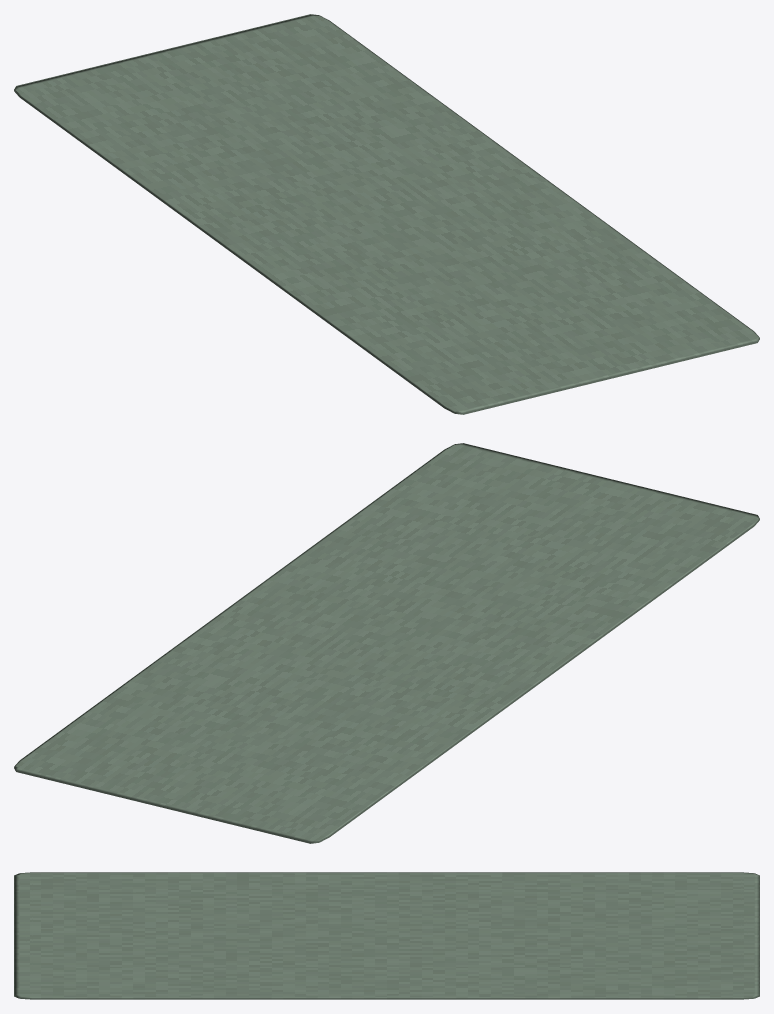
File: walk-band.glb
The picture shows the model from 3 angles, top to bottom: view 1: azimuth 30°, elevation 25°; view 2: azimuth 150°, elevation 25°; view 3: azimuth 270°, elevation 25°; orthographic projection. The views are drawn at different scales.
Visible parts, largest first — view 1: panel; view 2: panel; view 3: panel.
Boxes of the visible parts, x1,y1,x2,y2 form: panel: (14, 14, 759, 414); panel: (14, 443, 759, 843); panel: (14, 872, 759, 999).
Size of the model in its own units: 0.8 by 0.004 by 2.
Materials: 1 (1 with a texture image).
